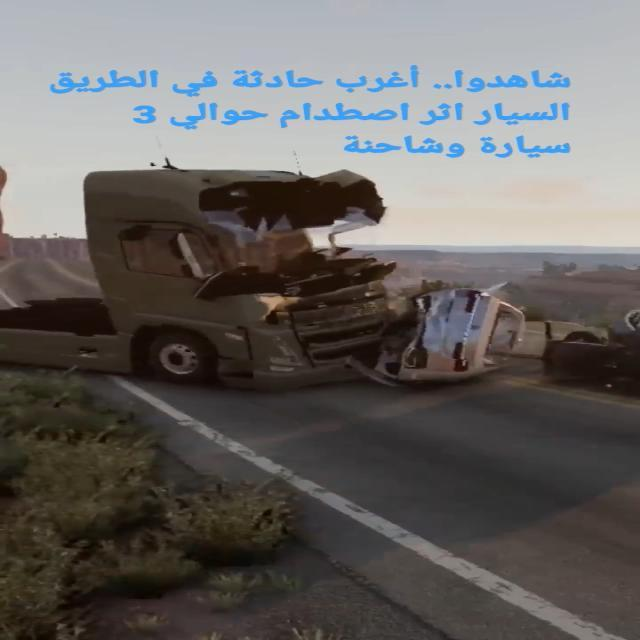accident: (74, 161, 525, 392)
